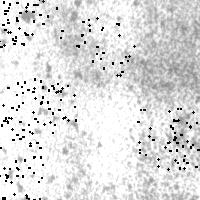pitted_surface: (53, 3, 196, 197), (137, 108, 197, 168), (18, 78, 75, 136), (76, 17, 133, 74), (0, 142, 42, 200), (2, 0, 62, 38), (0, 82, 37, 139), (0, 0, 25, 46)
